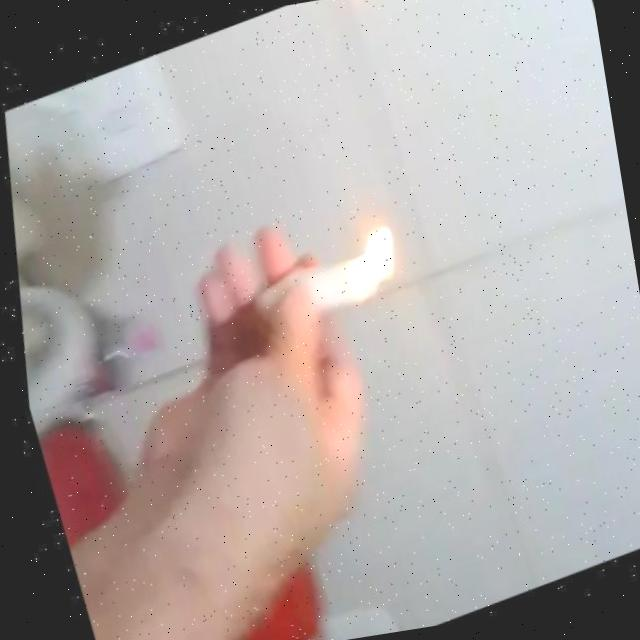fire: (347, 219, 404, 288)
